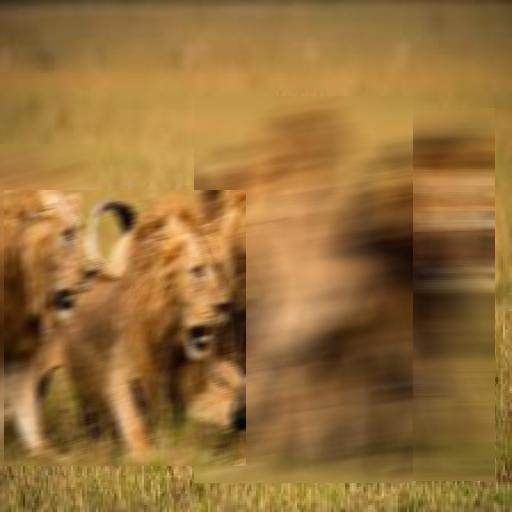lion: (258, 108, 495, 481), (194, 96, 413, 483), (4, 190, 246, 466), (0, 144, 97, 466)
